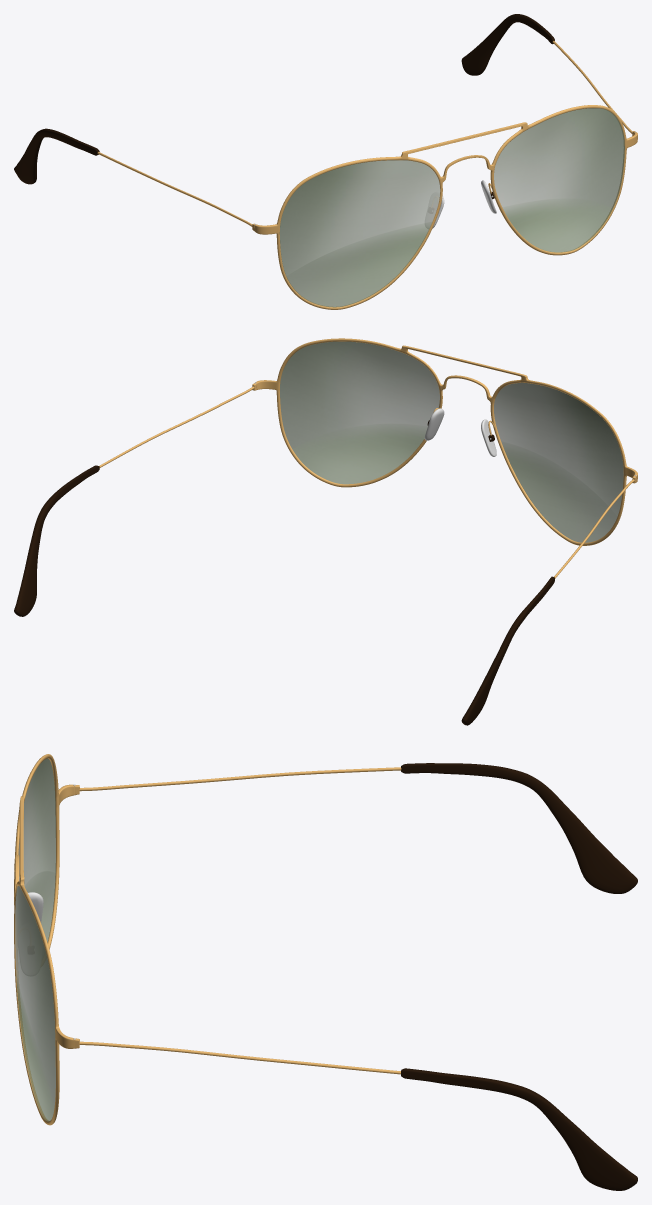
3 views of the same model, one above another, from view 1: azimuth 30°, elevation 25°; view 2: azimuth 150°, elevation 25°; view 3: azimuth 270°, elevation 25° (orthographic). The views are drawn at different scales.
Visible parts, largest first — view 1: Aviators_Glass tinted_0, Aviators_Gold metallic_0, Aviators_Black gloss_0; view 2: Aviators_Glass tinted_0, Aviators_Gold metallic_0, Aviators_Black gloss_0, Aviators_Transparent_0; view 3: Aviators_Glass tinted_0, Aviators_Black gloss_0, Aviators_Gold metallic_0.
Boxes of the visible parts, x1,y1,x2,y2 form: Aviators_Glass tinted_0: (279,108,624,307); Aviators_Gold metallic_0: (97,41,637,309); Aviators_Black gloss_0: (14,14,554,199); Aviators_Glass tinted_0: (280,341,623,542); Aviators_Gold metallic_0: (99,338,637,578); Aviators_Black gloss_0: (14,420,554,725); Aviators_Transparent_0: (424,408,496,456); Aviators_Glass tinted_0: (15,758,55,1121); Aviators_Black gloss_0: (401,763,637,1190); Aviators_Gold metallic_0: (14,754,401,1125).
Bounding box in the file's own units: 17.36 × 5.22 × 14.4.
5 materials, 1 textured.
